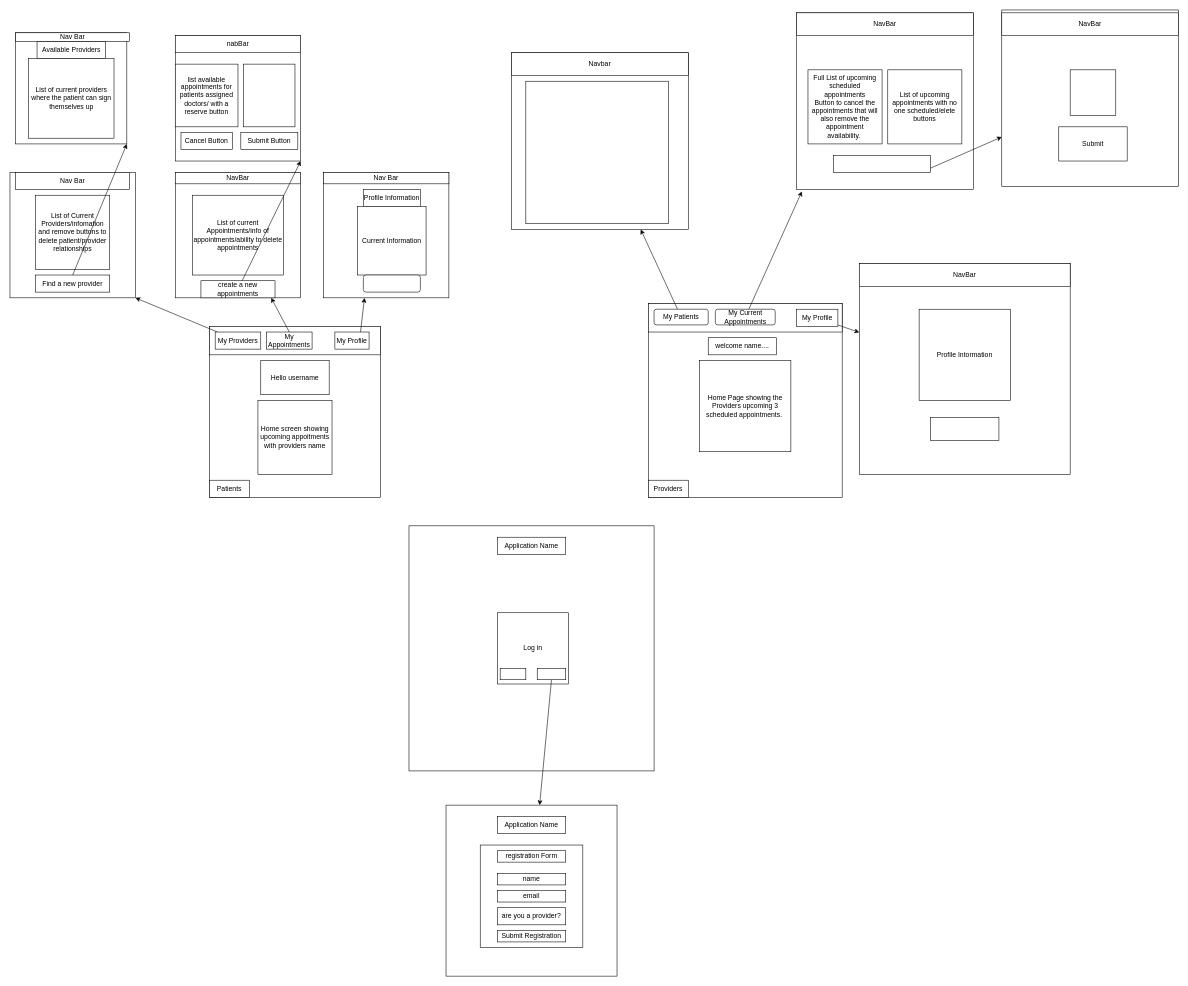
Image size: 1188x986. Some labels were removed from this diagram. Here are the shapes that lost their labels. From the top down, the centre of each, then its label:
At point (269, 95): "Reserve Form where patient will input appointment information".
At point (1093, 92): "Form for New Appointments".
At point (596, 152): "Current List of All Patients/ refuse/delete patients button for each patient".
At point (882, 163): "Button To create Available appoitnments".
At point (391, 283): "Submit Changes".
At point (964, 428): "Save Changes".
At point (513, 674): "sign in".
At point (551, 674): "register".
